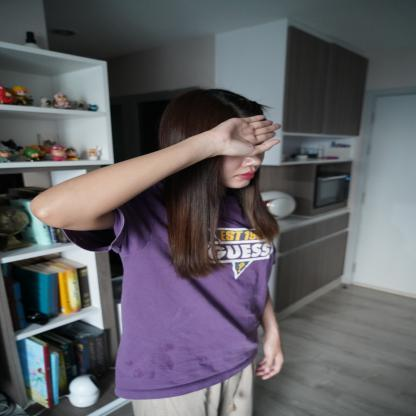Sick: (170, 112, 280, 192)
